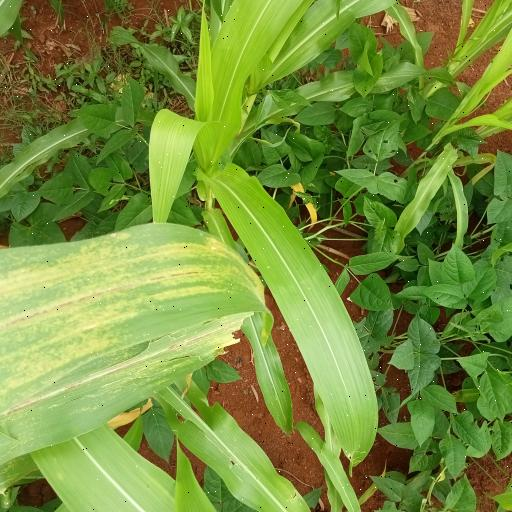Corn_Brown_Spots: (2, 225, 273, 458)
